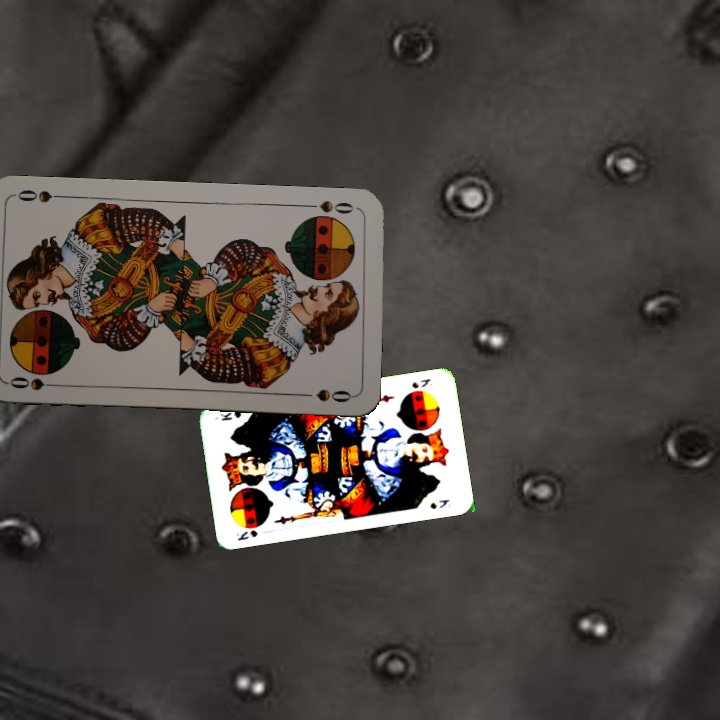SK: (233, 526, 260, 543), (408, 375, 433, 391)
SO: (6, 372, 64, 393), (302, 197, 361, 217)
